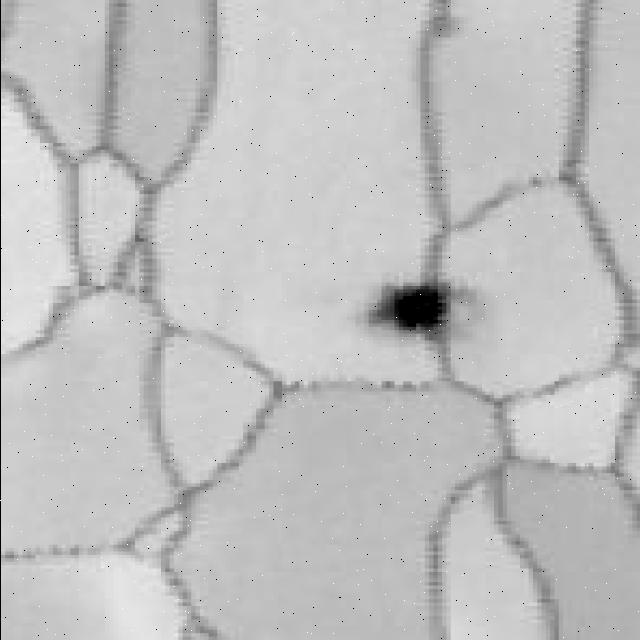good_void: (364, 276, 453, 342)
